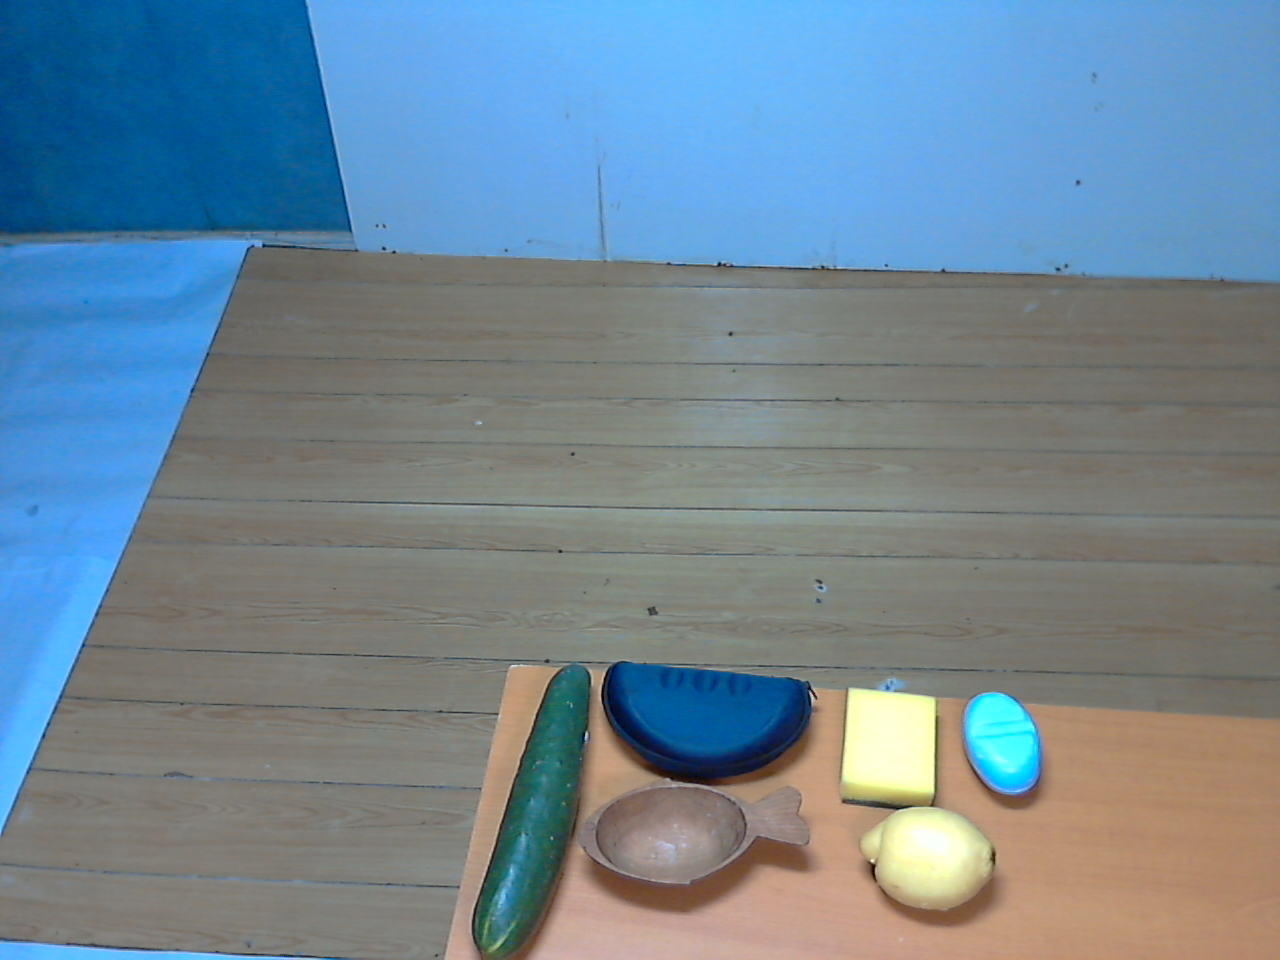esponja: (833, 679, 945, 819)
estuche: (595, 653, 826, 788)
jabon: (958, 685, 1049, 812)
limon: (851, 791, 1007, 928)
pepino: (461, 670, 599, 960)
pescado: (577, 773, 819, 898)
